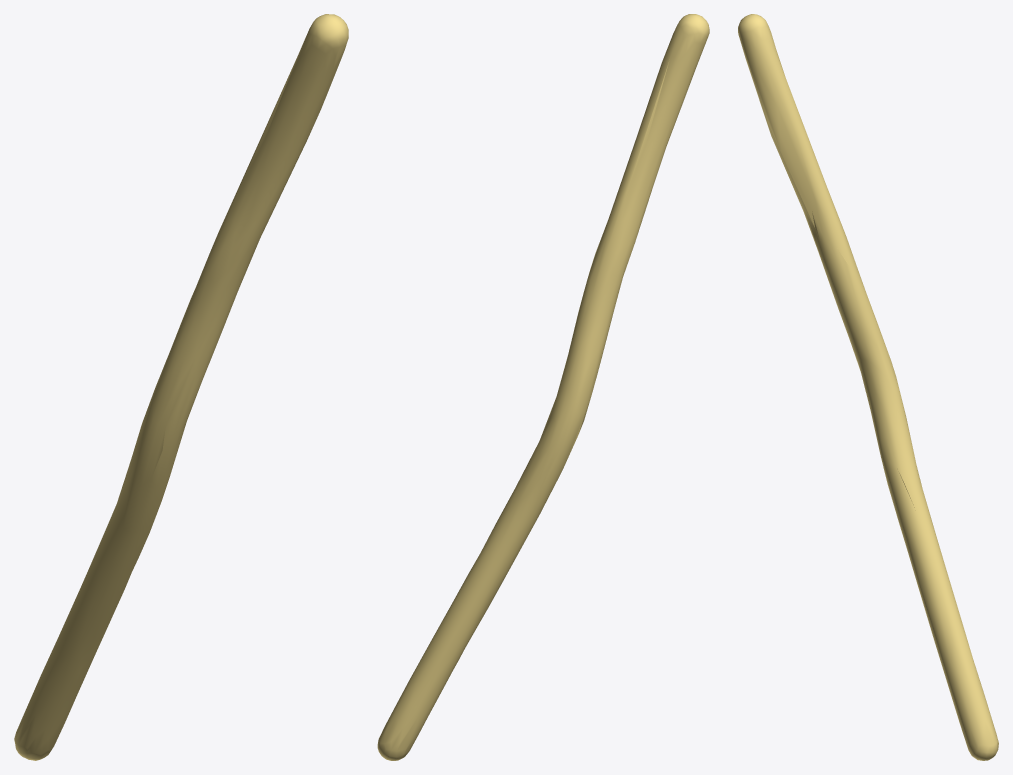
File: fma73839_mm3415m.glb
The picture shows the model from 3 angles, left to right: view 1: azimuth 90°, elevation 25°; view 2: azimuth 150°, elevation 25°; view 3: azimuth 270°, elevation 25°; orthographic projection. The views are drawn at different scales.
Parts seen in each view (by area): view 1: FMA73839_MM3415M; view 2: FMA73839_MM3415M; view 3: FMA73839_MM3415M.
Part boxes in pixels (box(x1,y1,x2,y2)): FMA73839_MM3415M: box(14, 14, 348, 760); FMA73839_MM3415M: box(377, 14, 709, 760); FMA73839_MM3415M: box(738, 14, 998, 760).
Size of the model in its own units: 0.00513 by 0.0166 by 0.00593.
